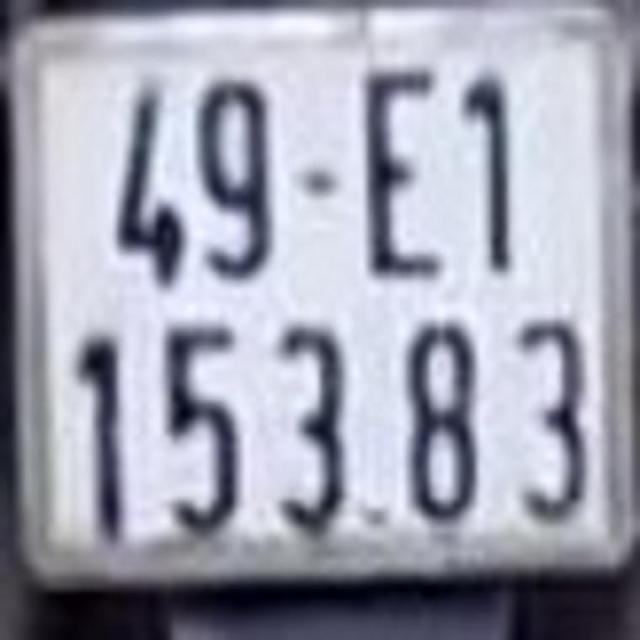1: (68, 316, 138, 546), (460, 61, 520, 284)
3: (271, 308, 349, 534), (513, 306, 588, 529)
4: (107, 80, 185, 291)
5: (158, 317, 241, 534)
8: (400, 311, 487, 528)
9: (192, 73, 275, 282)
E: (359, 62, 452, 284)
